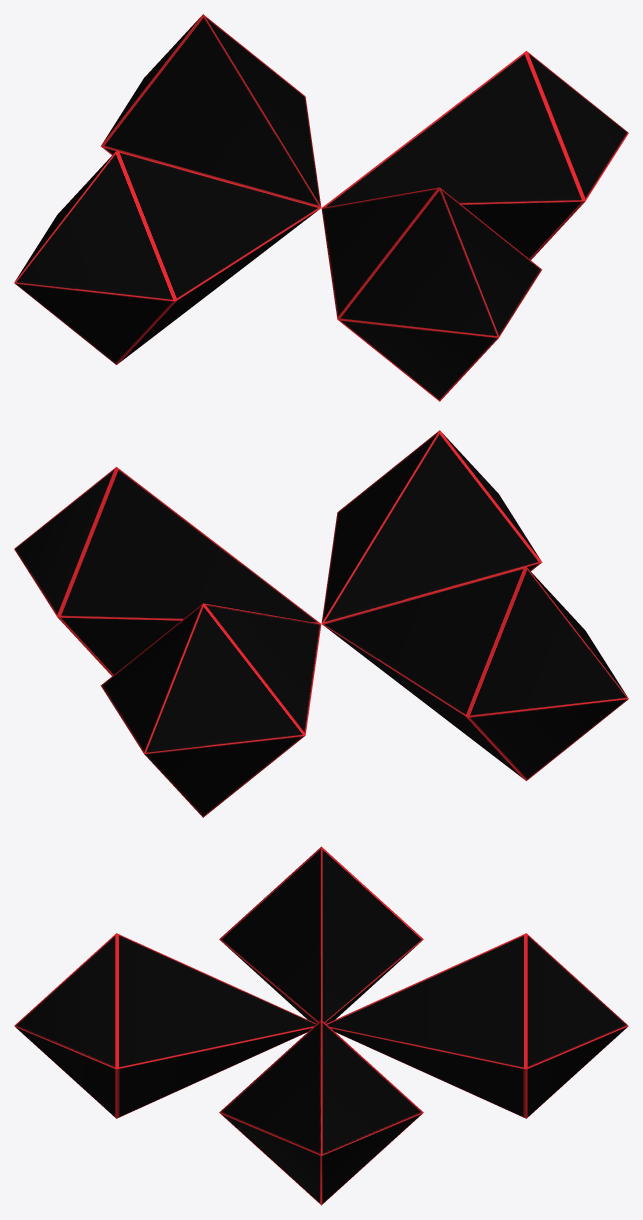
The model's file is TurretTop.fbx.
3 views of the same model, one above another, from view 1: azimuth 30°, elevation 25°; view 2: azimuth 150°, elevation 25°; view 3: azimuth 270°, elevation 25° (orthographic). The views are drawn at different scales.
Parts seen in each view (by area): view 1: pCone6; view 2: pCone6; view 3: pCone6.
Boxes of the visible parts, bbox=[...] form: pCone6: bbox=[14, 14, 628, 401]; pCone6: bbox=[14, 430, 628, 817]; pCone6: bbox=[14, 846, 628, 1205].
Size of the model in its own units: 6 by 2 by 6.
